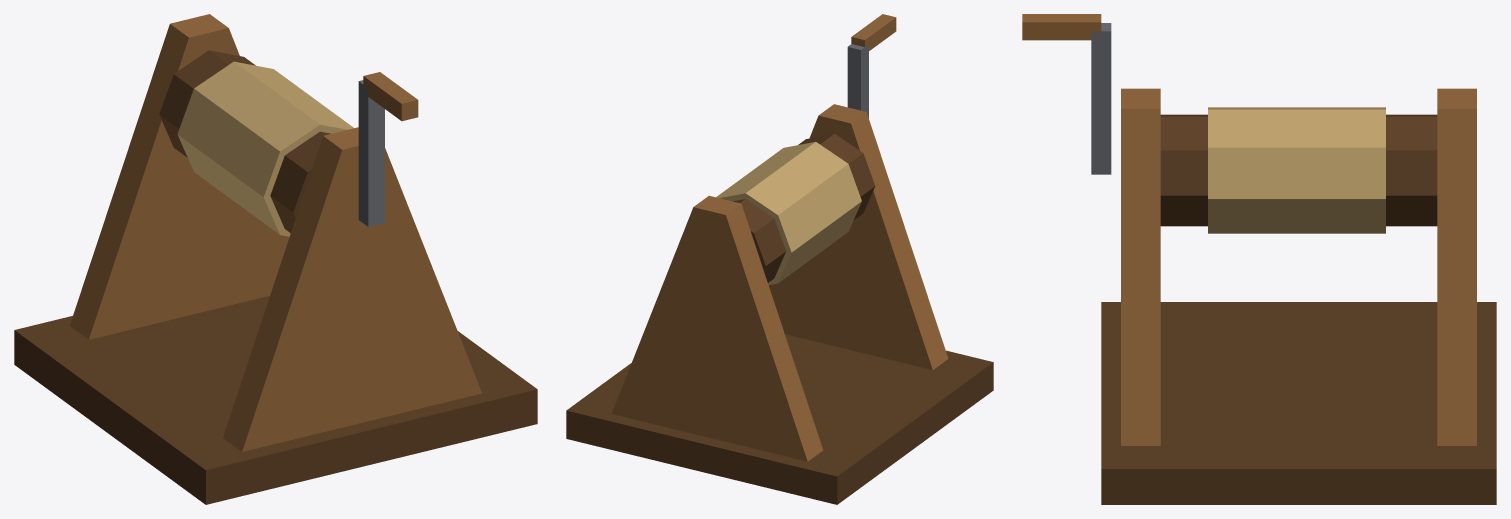
File: winch.glb
3 views of the same model, side by side, from view 1: azimuth 30°, elevation 25°; view 2: azimuth 150°, elevation 25°; view 3: azimuth 270°, elevation 25° (orthographic). The views are drawn at different scales.
Visible parts, largest first — view 1: wood, wood_dark-col, Drum_rope, Drum_wood_dark, Drum_metal, Drum_wood; view 2: wood, wood_dark-col, Drum_rope, Drum_wood_dark, Drum_metal, Drum_wood; view 3: wood_dark-col, wood, Drum_rope, Drum_wood_dark, Drum_metal, Drum_wood.
Part boxes in pixels (box(x1,y1,x2,y2)): wood: box(69, 14, 482, 451); wood_dark-col: box(14, 296, 537, 504); Drum_rope: box(177, 61, 353, 236); Drum_wood_dark: box(159, 50, 331, 233); Drum_metal: box(358, 80, 384, 226); Drum_wood: box(363, 72, 418, 121); wood: box(611, 104, 948, 461); wood_dark-col: box(566, 334, 993, 504); Drum_rope: box(716, 142, 861, 284); Drum_wood_dark: box(733, 133, 875, 282); Drum_metal: box(847, 44, 868, 118); Drum_wood: box(851, 14, 896, 50); wood_dark-col: box(1101, 302, 1496, 504); wood: box(1121, 88, 1476, 445); Drum_rope: box(1208, 107, 1385, 233); Drum_wood_dark: box(1160, 114, 1437, 226); Drum_metal: box(1091, 23, 1111, 174); Drum_wood: box(1022, 14, 1101, 40).
Bounding box in the file's own units: 1 × 1.13 × 1.2.
